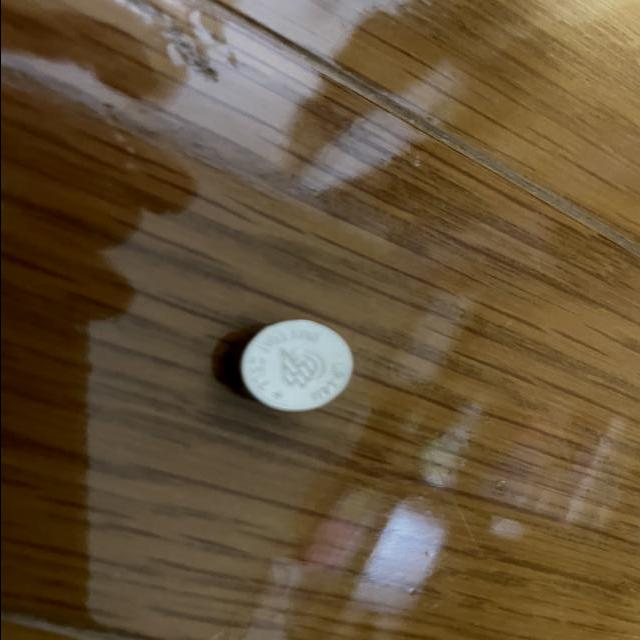COIN: (232, 317, 354, 413)
